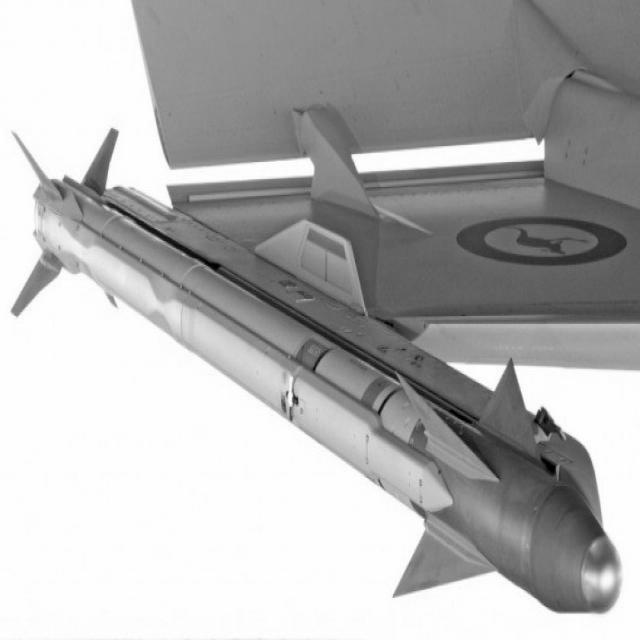Missile: (0, 160, 640, 637)
